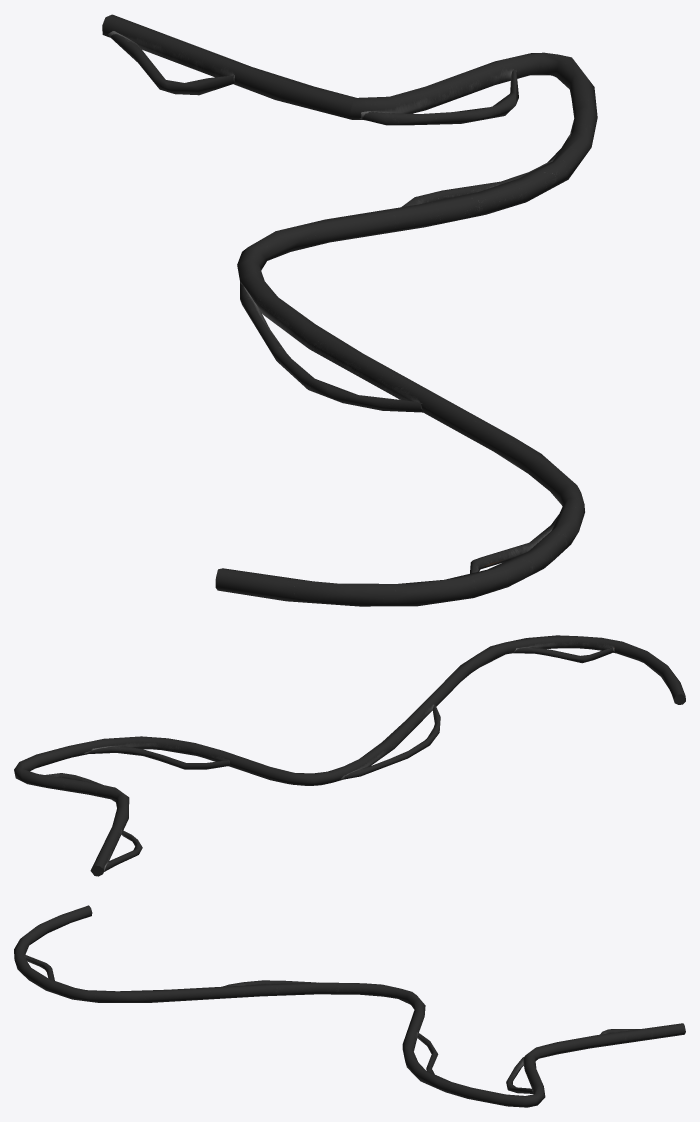
Rendered from SM_Cable_01.fbx.
3 renders of one model, top to bottom at view 1: azimuth 30°, elevation 25°; view 2: azimuth 150°, elevation 25°; view 3: azimuth 270°, elevation 25°, orthographic. The views are drawn at different scales.
Parts seen in each view (by area): view 1: SM_Cable_01_LOD0; view 2: SM_Cable_01_LOD0; view 3: SM_Cable_01_LOD0.
Boxes of the visible parts, x1,y1,x2,y2 form: SM_Cable_01_LOD0: [102, 14, 597, 606]; SM_Cable_01_LOD0: [14, 635, 685, 876]; SM_Cable_01_LOD0: [14, 905, 685, 1107].
Size of the model in its own units: 88.82 by 129 by 2.93.
1 material, 1 textured.
